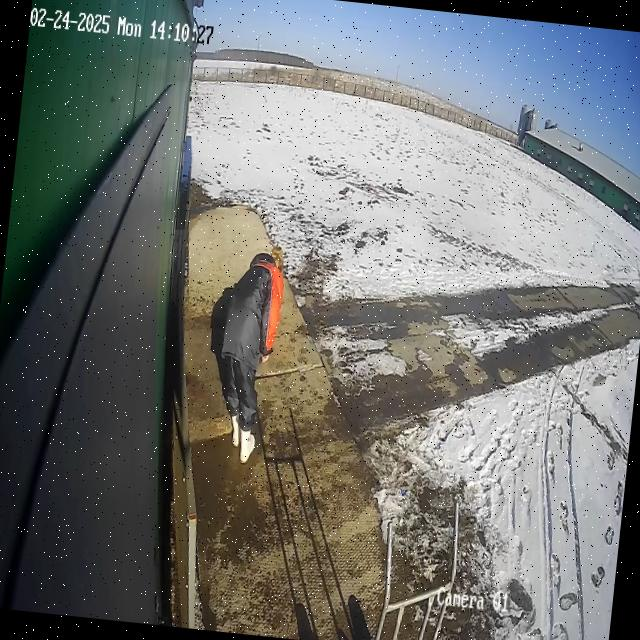Red uniform: (205, 239, 290, 468)
